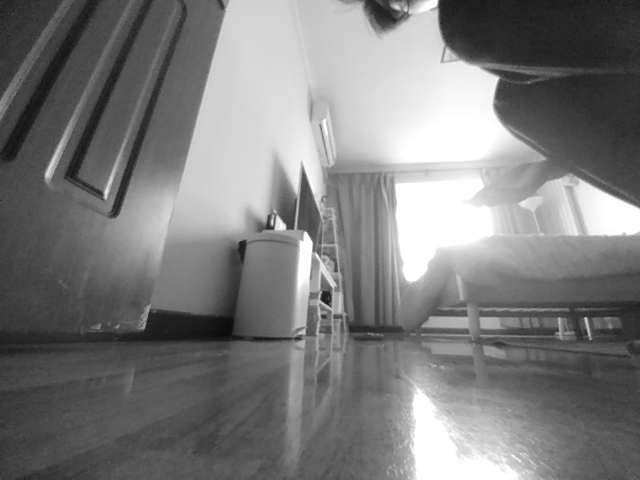carpet: (464, 333, 640, 362)
curtain: (325, 170, 404, 326)
pet feces: (352, 331, 387, 342)
